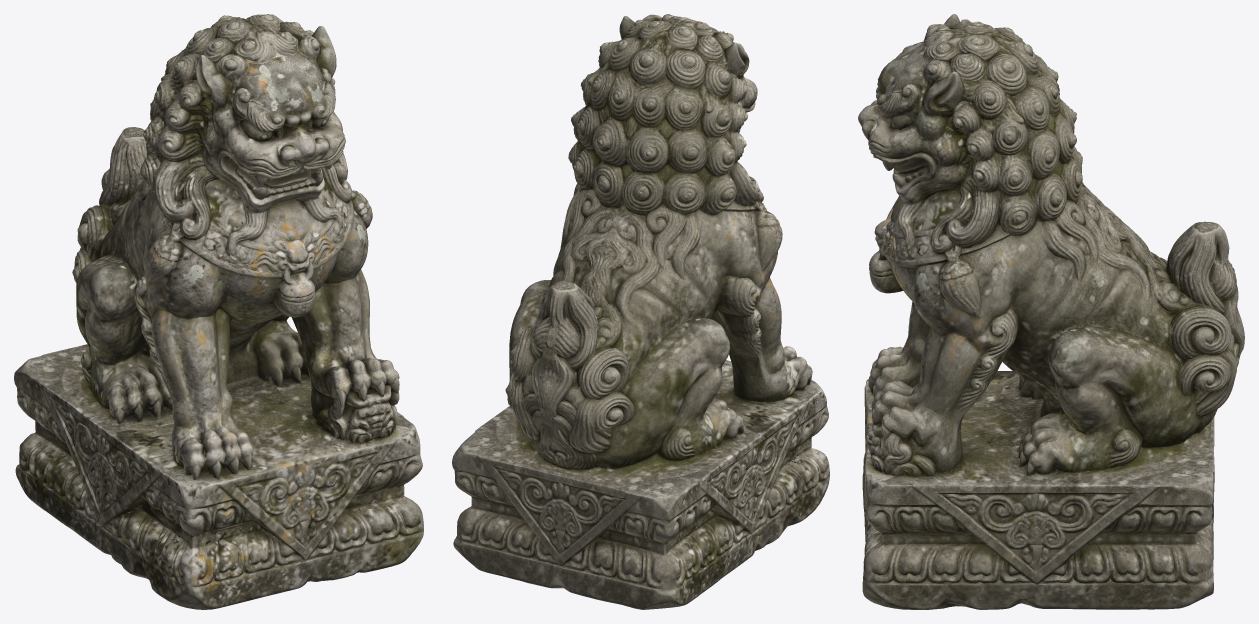
Rendered from guardian.glb.
3 renders of one model, left to right at view 1: azimuth 30°, elevation 25°; view 2: azimuth 150°, elevation 25°; view 3: azimuth 270°, elevation 25°, orthographic. The views are drawn at different scales.
Parts seen in each view (by area): view 1: Mesh_0; view 2: Mesh_0; view 3: Mesh_0.
Part boxes in pixels (<box>): Mesh_0: <box>14,14,423,609</box>; Mesh_0: <box>452,14,829,609</box>; Mesh_0: <box>858,14,1244,609</box>.
Size of the model in its own units: 0.9076 by 1.9 by 1.27.
1 material, 1 textured.
